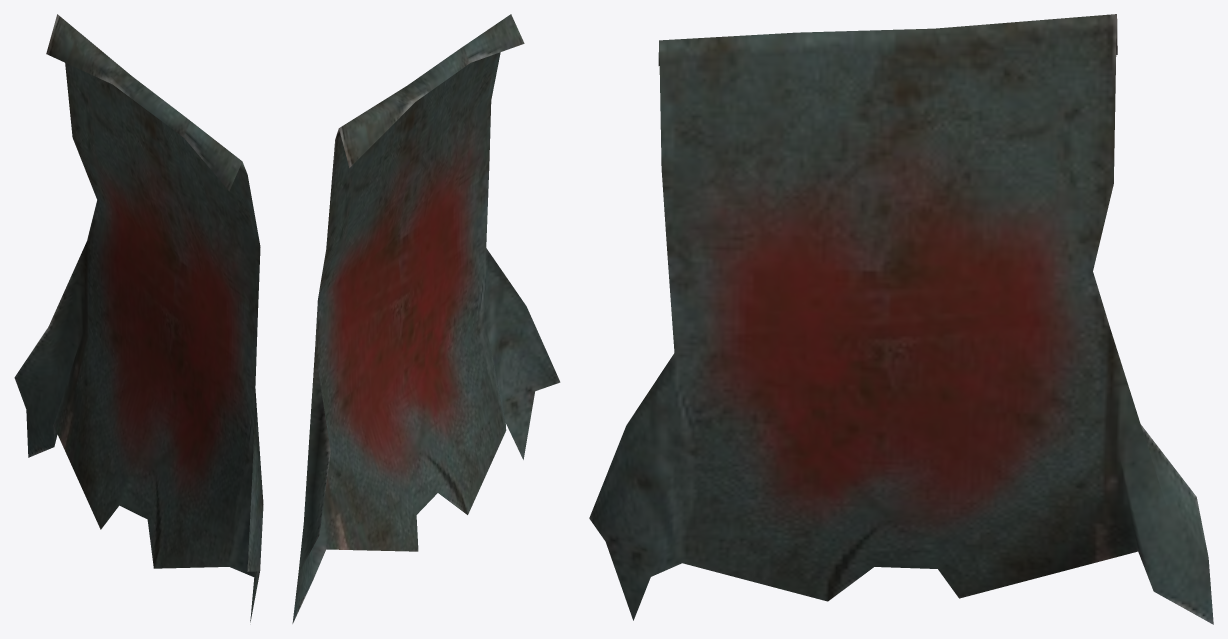
The model's file is Tee_03.FBX.
3 renders of one model, left to right at view 1: azimuth 30°, elevation 25°; view 2: azimuth 150°, elevation 25°; view 3: azimuth 270°, elevation 25°, orthographic. The views are drawn at different scales.
Parts seen in each view (by area): view 1: Tee_03; view 2: Tee_03; view 3: Tee_03.
Part boxes in pixels (x1,y1,x2,y2): Tee_03: [14, 14, 263, 622]; Tee_03: [292, 14, 560, 623]; Tee_03: [589, 14, 1213, 624].
Bounding box in the file's own units: 5.98 × 55.43 × 51.81.
